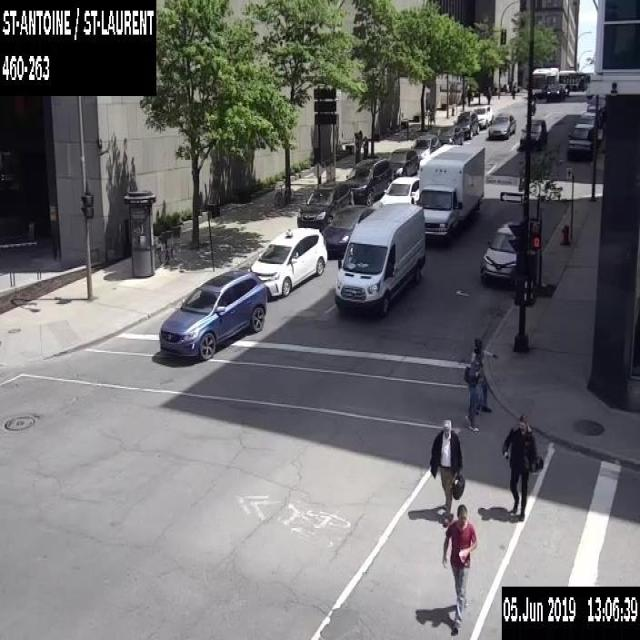bus: (531, 66, 558, 95), (558, 69, 589, 91)
pedestrian: (441, 502, 477, 635), (501, 412, 544, 523), (429, 418, 465, 524), (471, 337, 497, 412), (462, 348, 482, 430), (354, 140, 360, 164), (362, 134, 367, 158), (466, 86, 471, 104), (510, 82, 515, 99), (486, 85, 490, 104)
vehicle: (334, 200, 425, 316), (158, 268, 267, 362), (419, 143, 484, 238), (248, 226, 328, 296), (320, 203, 376, 256), (297, 179, 353, 231), (479, 218, 521, 282), (345, 157, 392, 206), (376, 175, 419, 208), (566, 122, 594, 160), (388, 148, 418, 178), (411, 132, 440, 160), (519, 118, 546, 148), (452, 110, 479, 138), (488, 112, 516, 138), (577, 111, 602, 139), (436, 124, 464, 145), (473, 104, 493, 128), (587, 94, 605, 117), (546, 83, 563, 100), (559, 82, 569, 95), (531, 90, 536, 113)
